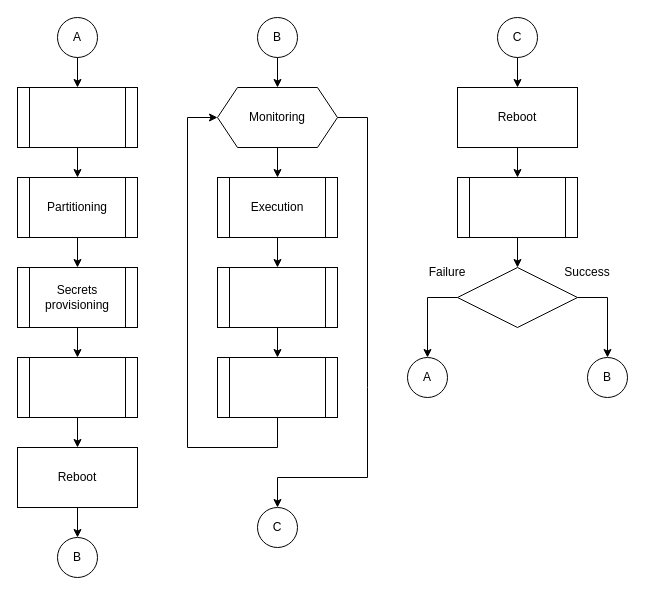
Image size: 645x595. Some labels were removed from this diagram. Each missing label, with the box of its shape:
Health check: (456, 266, 578, 328)
Installation: (16, 356, 138, 418)
Netboot: (16, 86, 138, 148)
Rebuild: (216, 356, 338, 418)
Rollback: (456, 176, 578, 238)
Snapshot and backup: (216, 266, 338, 328)
